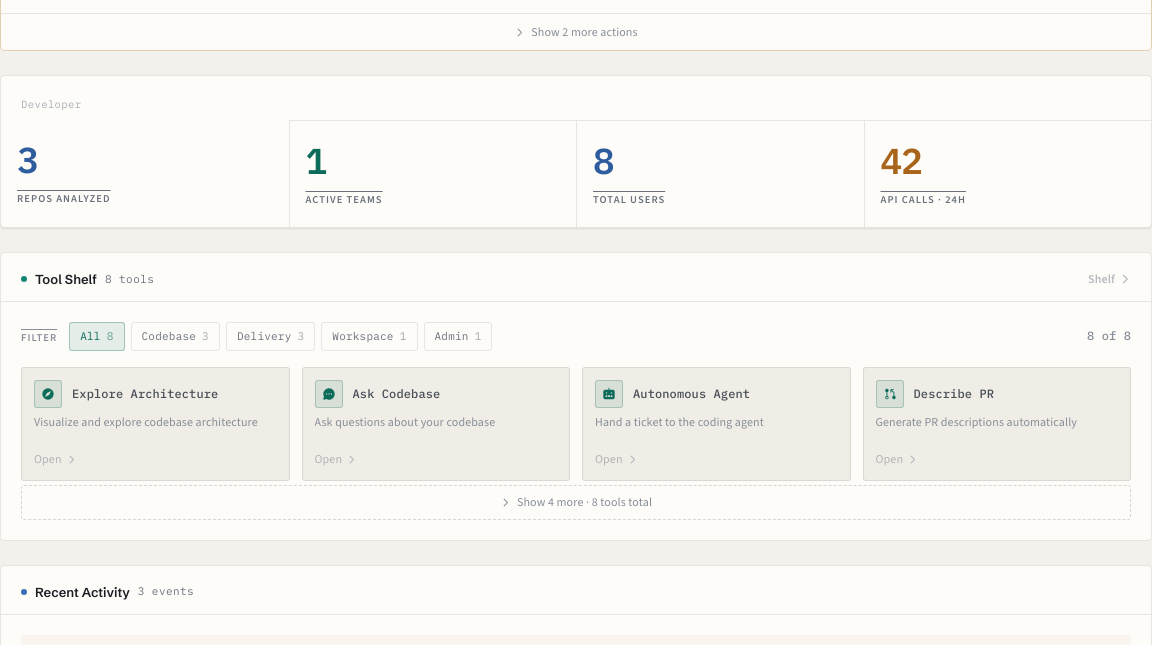
Test: DevSpace — a developer console with one ranked move › filters the tool shelf by counted category before listing
(page scrolled)
Expected: the text "8 of 8" is shown, top-left (1087, 328), bottom-right (1131, 345)
Click the button "Admin 1".
click(458, 337)  # box top-left (424, 322), bottom-right (492, 351)
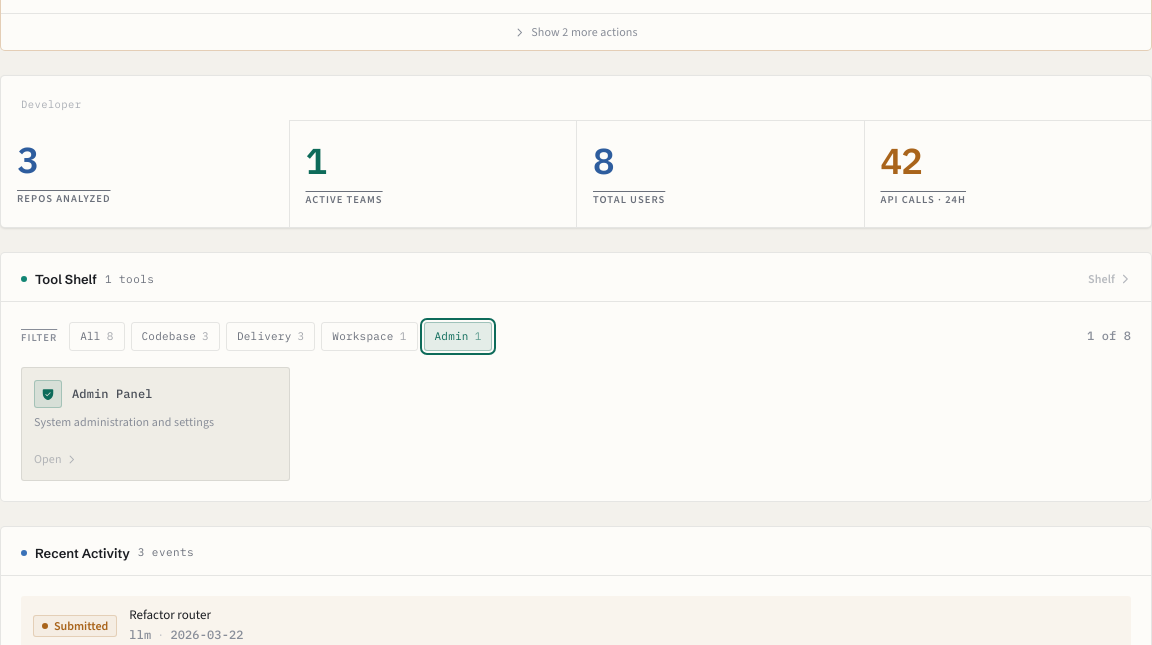
Expected: the text "Explore Architecture" is not shown
Result: the text "1 of 8" is shown at top-left (1087, 328), bottom-right (1131, 345)
Result: the text "Admin Panel" is shown at top-left (72, 386), bottom-right (152, 403)
